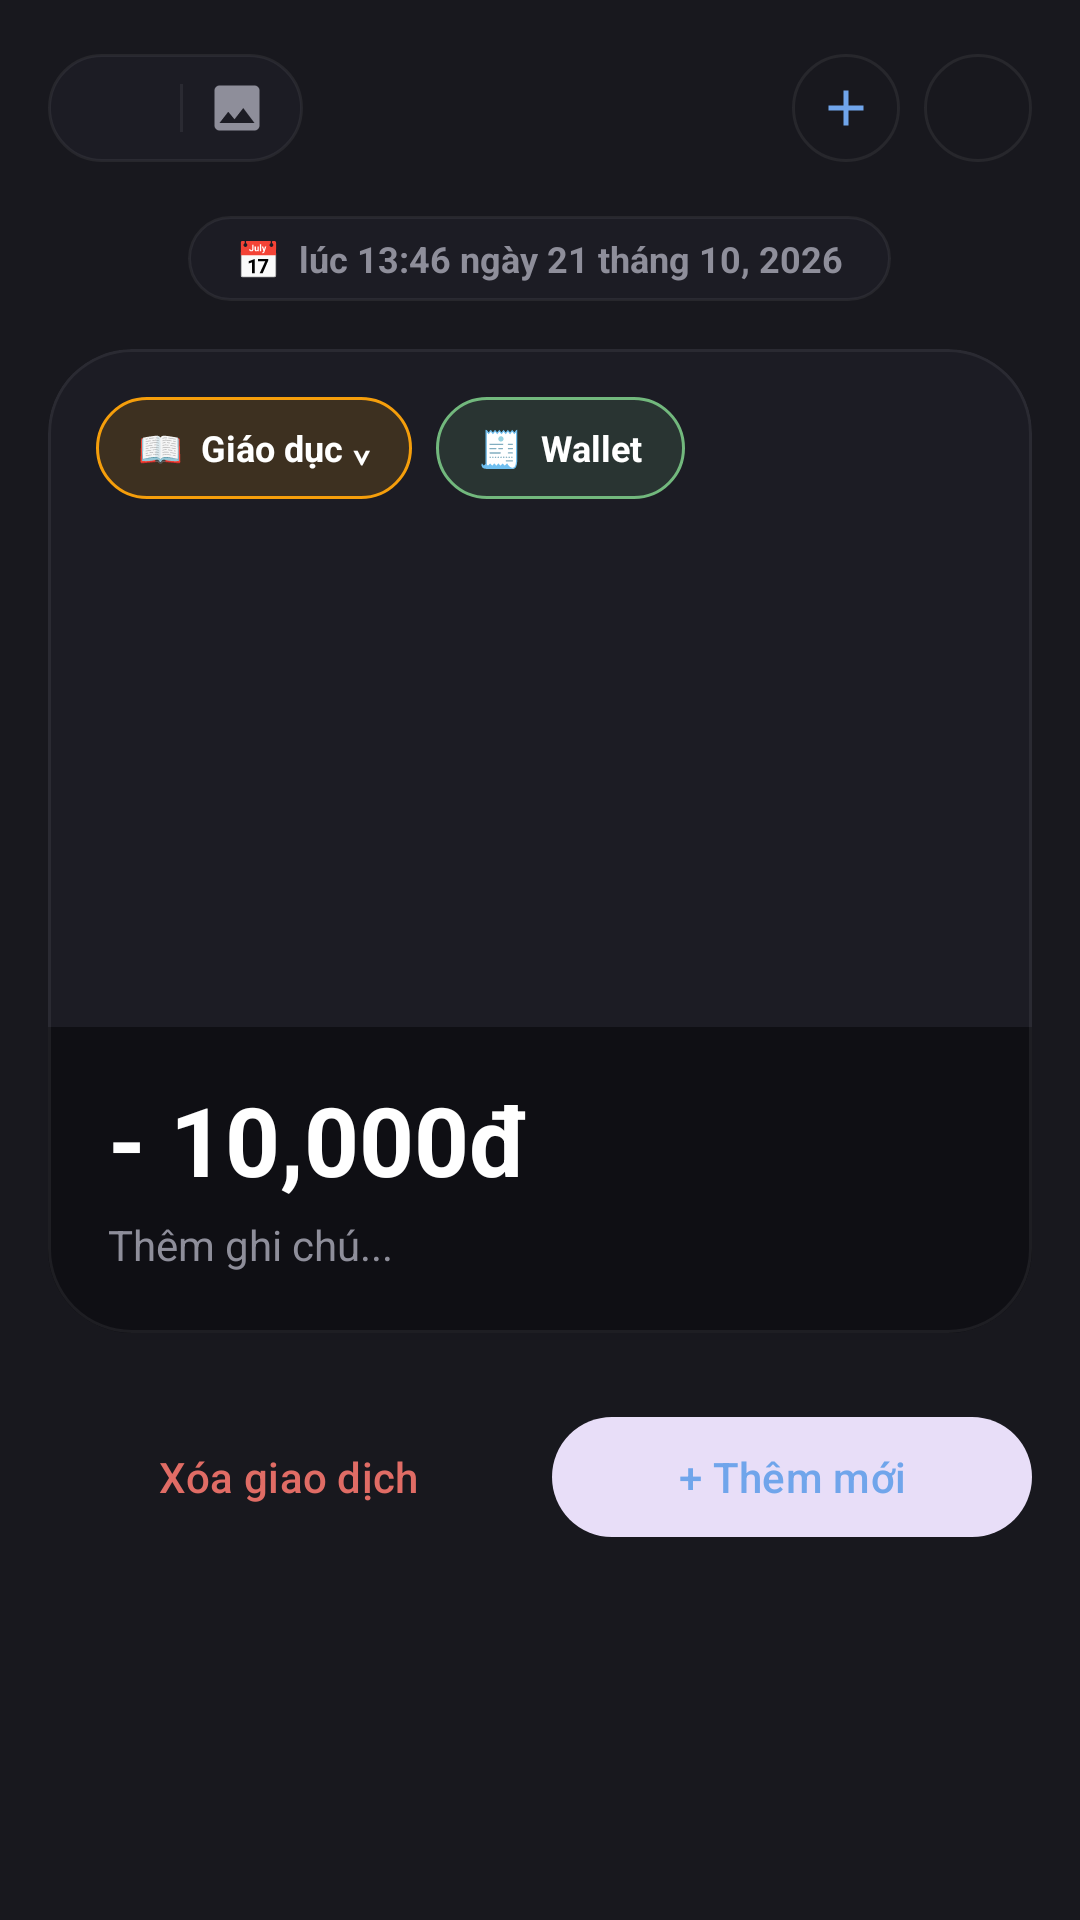

Locate icon controls on the screen. Image size 1080 x 1920, boxes as (x1, y1, x2, y2).
gallery: (214, 85, 260, 131)
Thêm giao dịch ngày này: (828, 90, 864, 126)
